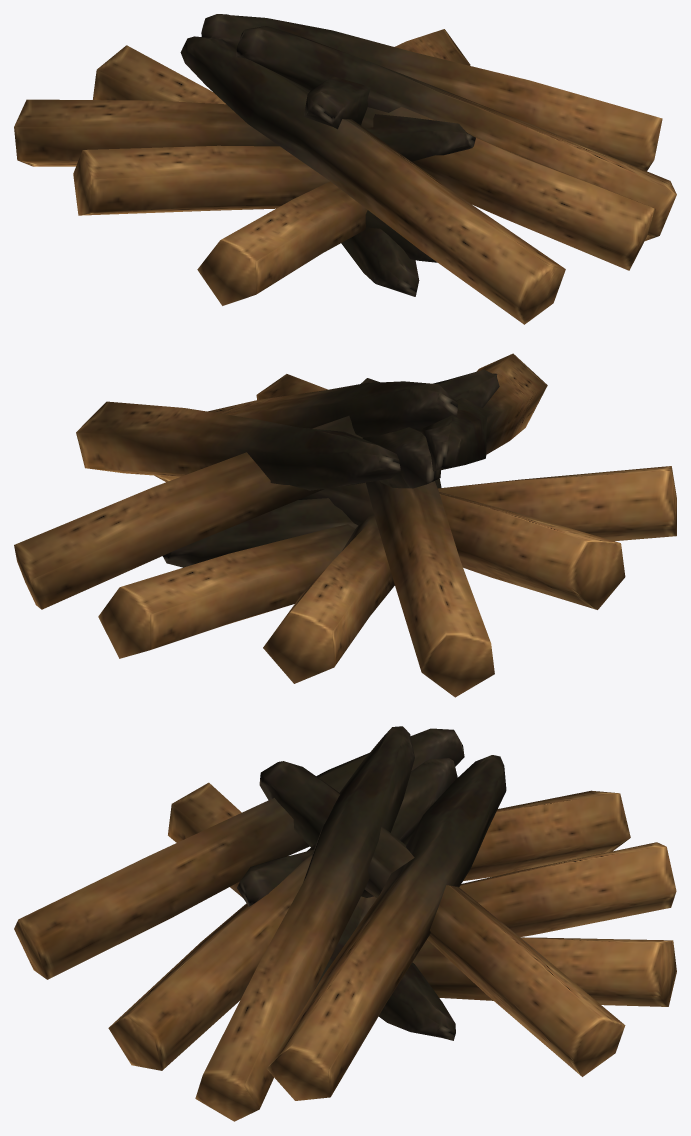
File: bonfire.FBX
The picture shows the model from 3 angles, top to bottom: view 1: azimuth 30°, elevation 25°; view 2: azimuth 150°, elevation 25°; view 3: azimuth 270°, elevation 25°; orthographic projection. The views are drawn at different scales.
Visible parts, largest first — view 1: bonfire; view 2: bonfire; view 3: bonfire.
Boxes of the visible parts, x1,y1,x2,y2 form: bonfire: (14,14,676,324); bonfire: (14,353,676,697); bonfire: (14,726,676,1121).
Size of the model in its own units: 13.5 by 5.59 by 14.08.
